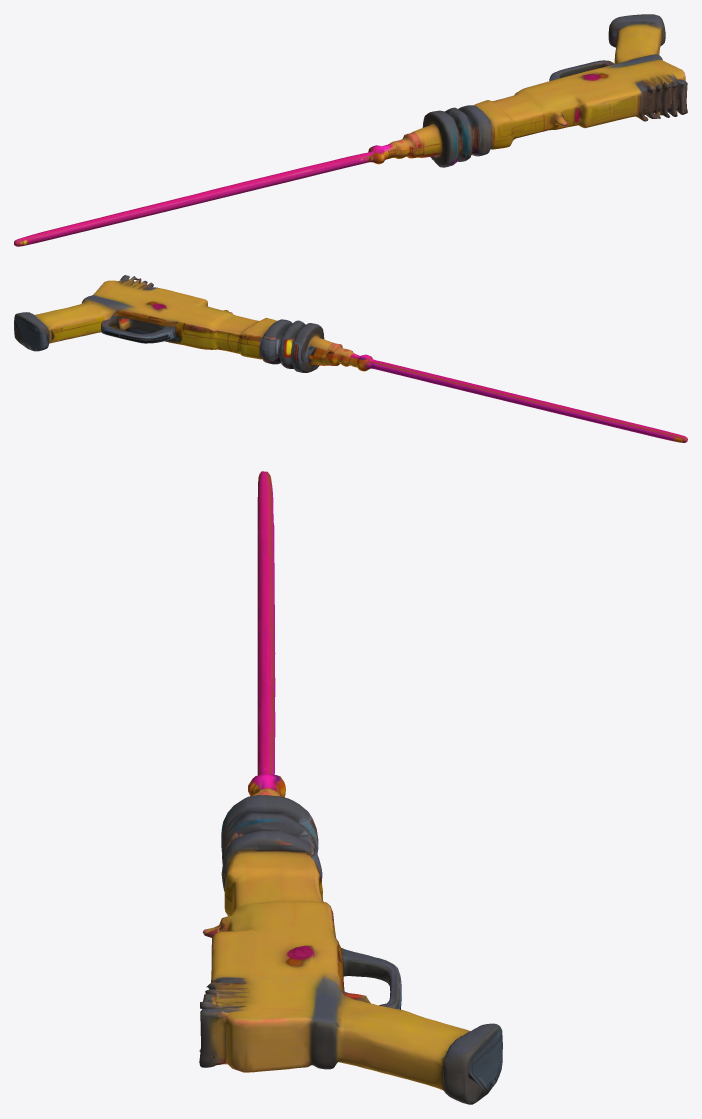
The model's file is Holmio.fbx.
3 renders of one model, top to bottom at view 1: azimuth 30°, elevation 25°; view 2: azimuth 150°, elevation 25°; view 3: azimuth 270°, elevation 25°, orthographic. The views are drawn at different scales.
Visible parts, largest first — view 1: Mesh_0.024; view 2: Mesh_0.024; view 3: Mesh_0.024.
Part boxes in pixels (x1,y1,x2,y2): Mesh_0.024: (14,14,687,246); Mesh_0.024: (14,275,687,442); Mesh_0.024: (199,471,502,1104).
Size of the model in its own units: 15275 by 1035 by 3224.
